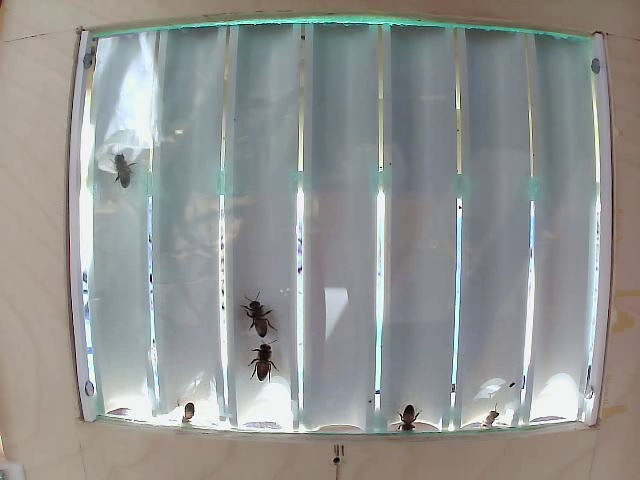bee: (238, 294, 281, 343), (245, 343, 291, 388), (101, 155, 142, 192)
